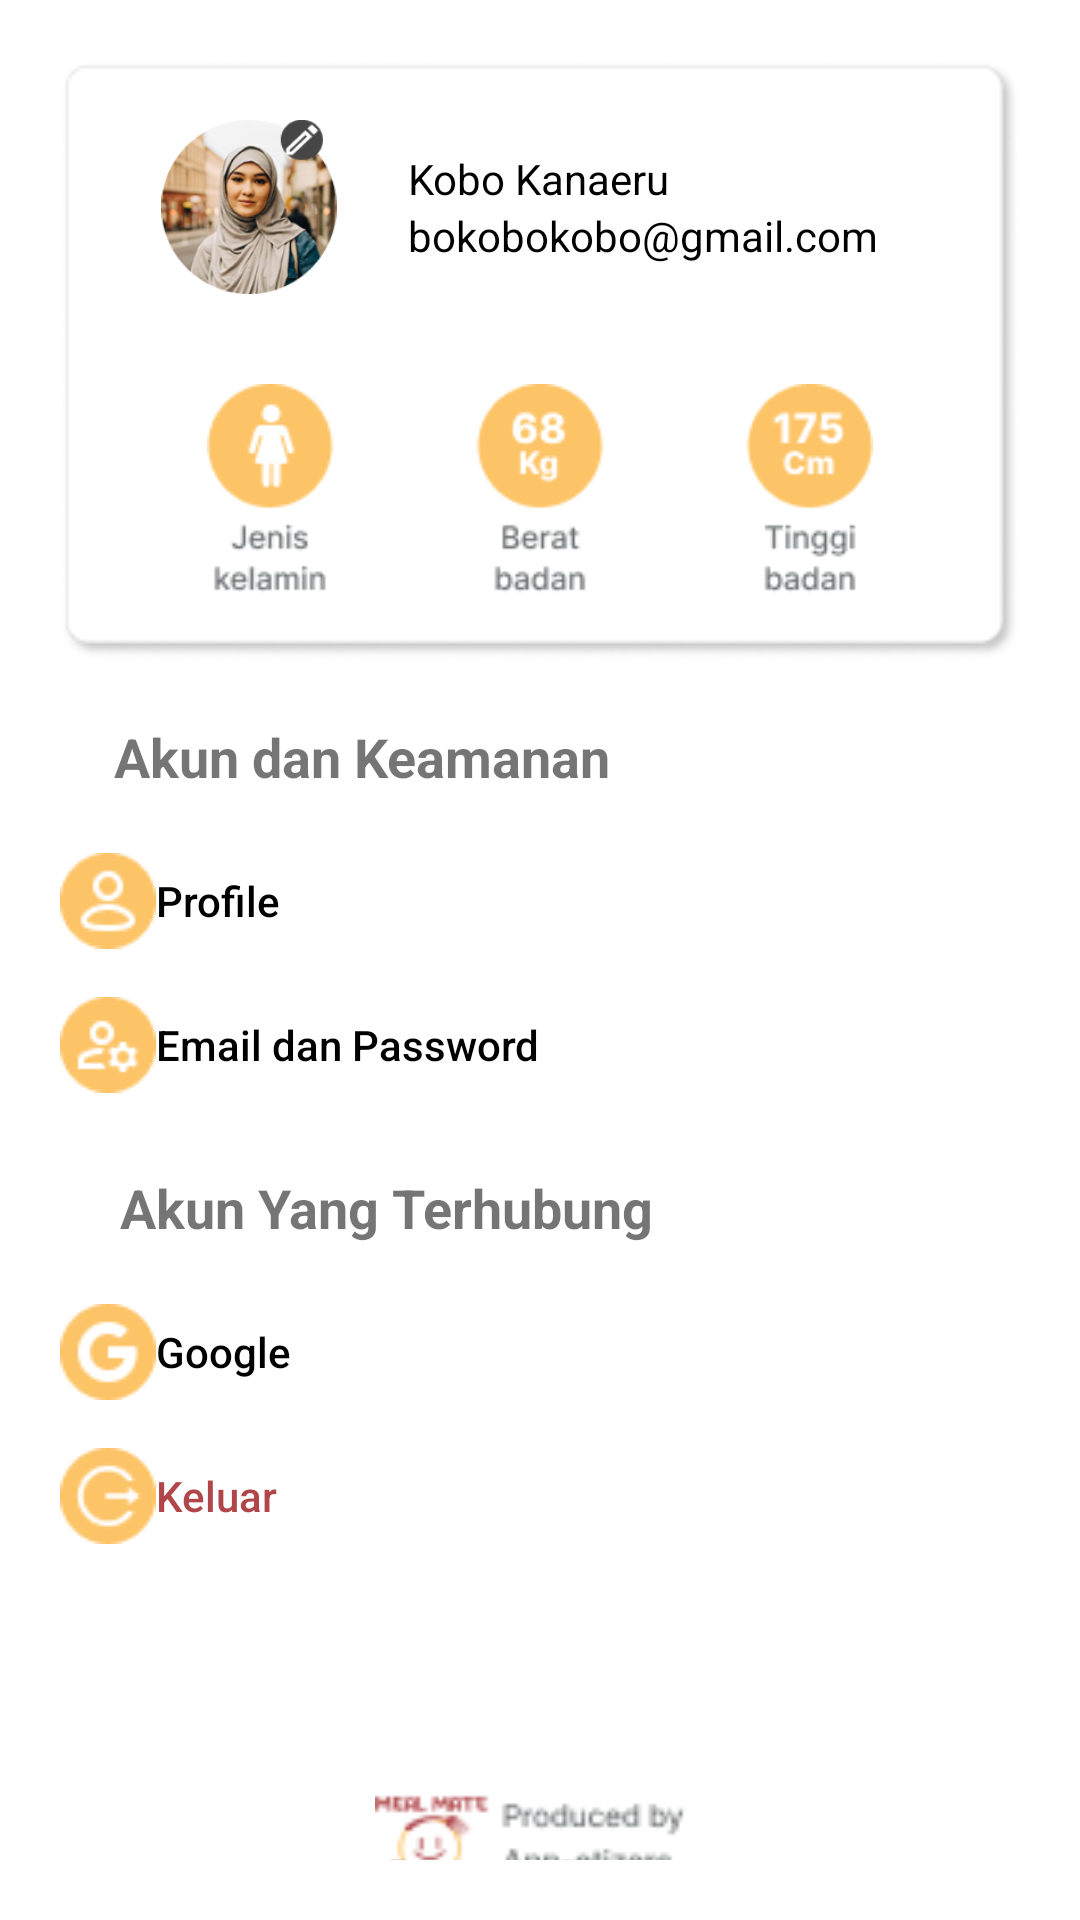

Icons on this 1080x1920 Android screen, each with the point to tap as (x,y):
profilsaya: (249,207)
